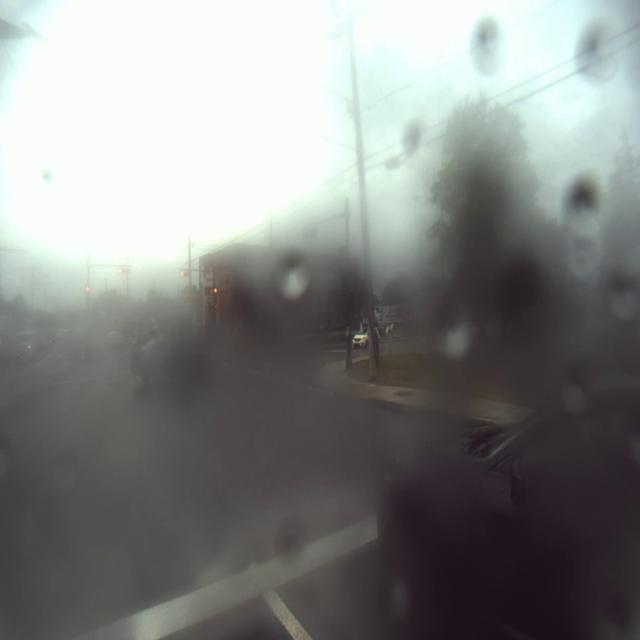car: (134, 340, 214, 386)
